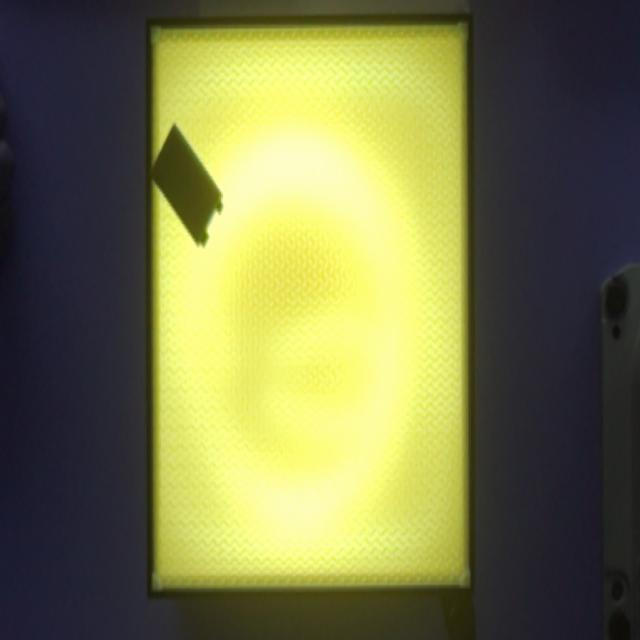bateria: (151, 121, 223, 247)
mesa: (146, 14, 476, 598)
